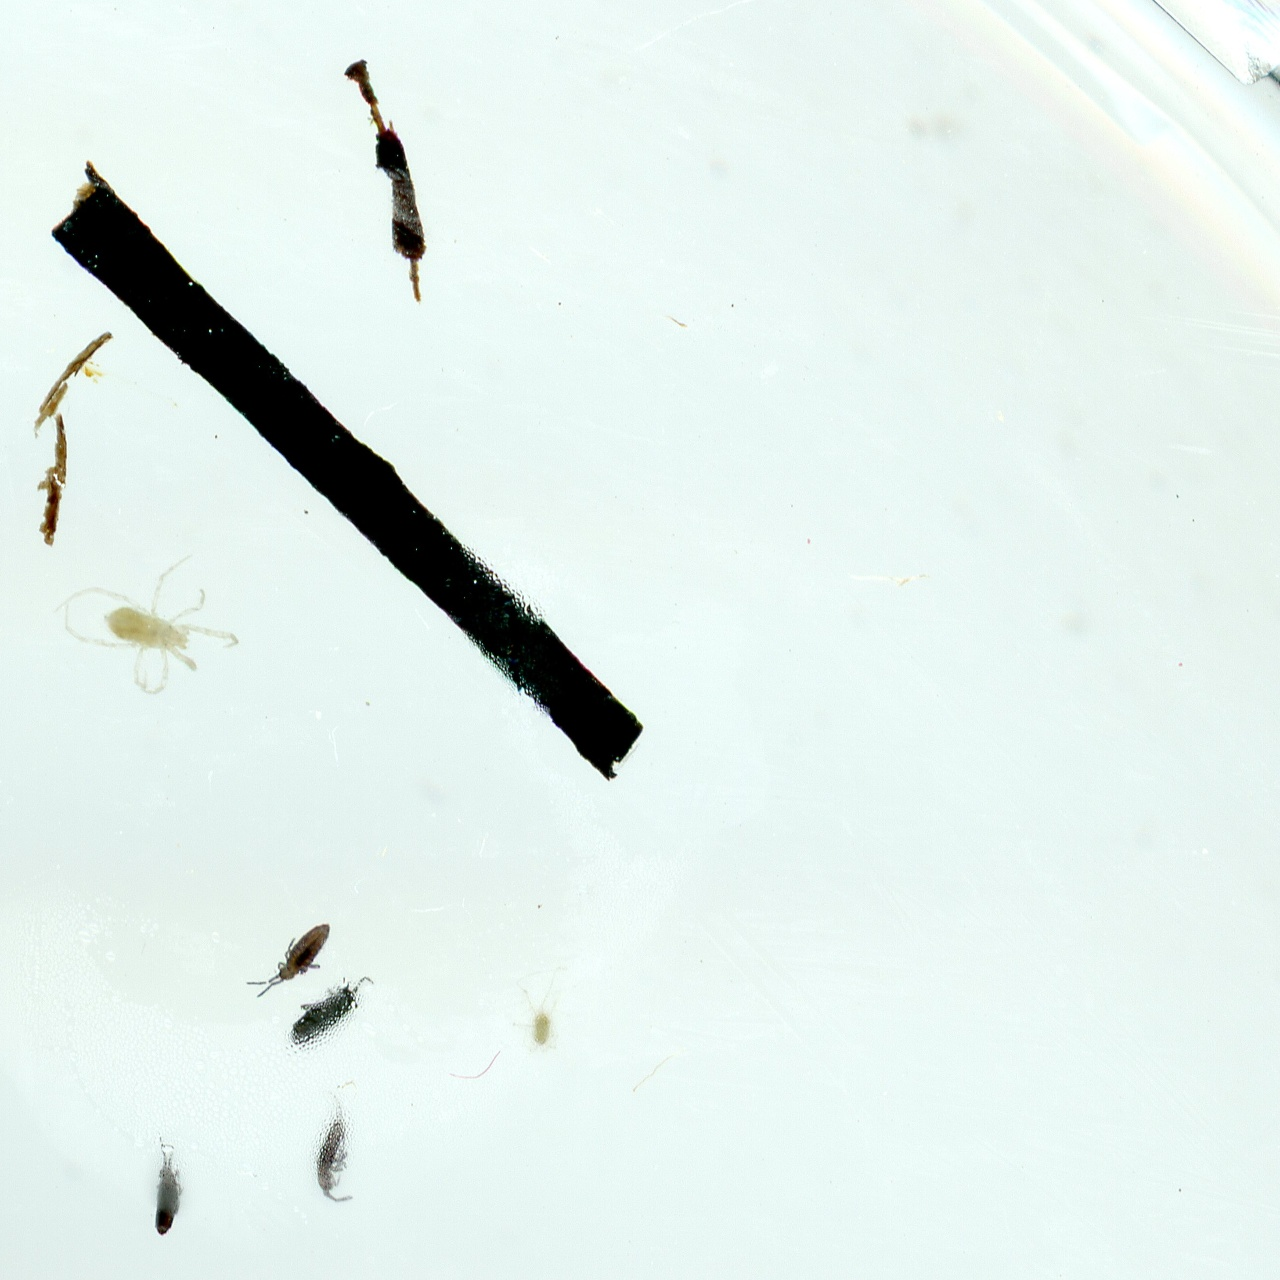arthropod: (48, 549, 244, 699), (234, 900, 350, 1023), (290, 975, 376, 1049), (508, 964, 574, 1057), (311, 1088, 355, 1206), (150, 1125, 188, 1239)
